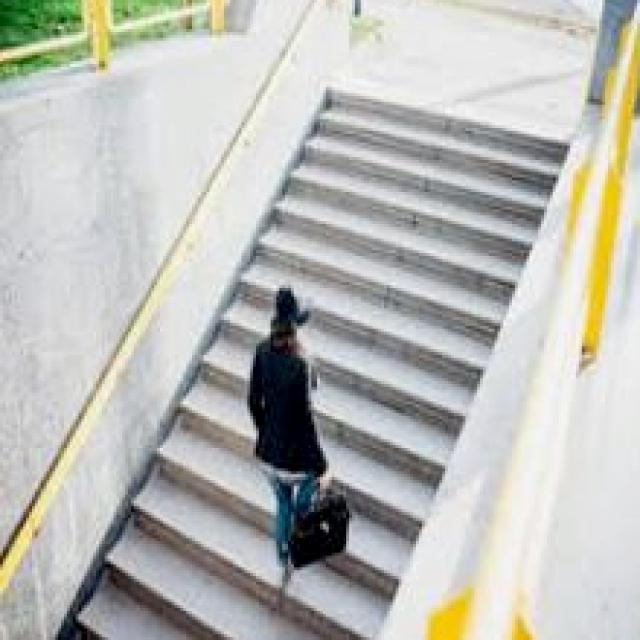upstair: (266, 138, 507, 359)
